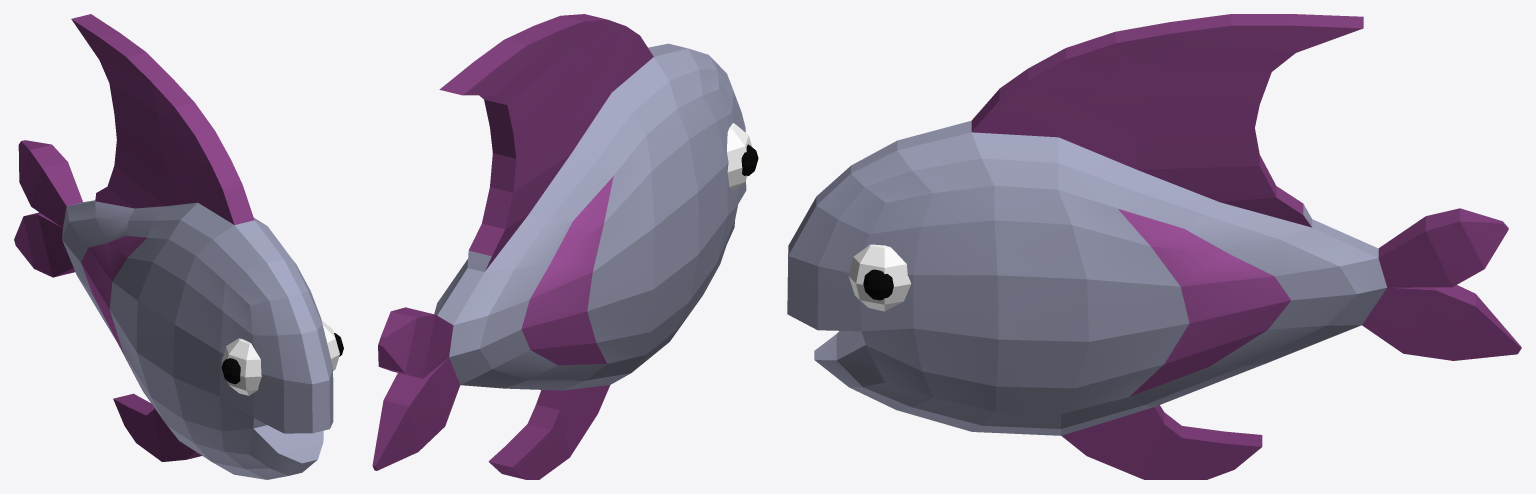
Rendered from Fish_1.fbx.
3 views of the same model, side by side, from view 1: azimuth 30°, elevation 25°; view 2: azimuth 150°, elevation 25°; view 3: azimuth 270°, elevation 25° (orthographic). The views are drawn at different scales.
Parts seen in each view (by area): view 1: Fish_1; view 2: Fish_1; view 3: Fish_1.
Boxes of the visible parts, x1,y1,x2,y2 form: Fish_1: (14, 14, 343, 479); Fish_1: (372, 14, 758, 479); Fish_1: (787, 14, 1521, 479).
Bounding box in the file's own units: 10.54 × 31.95 × 46.81.
